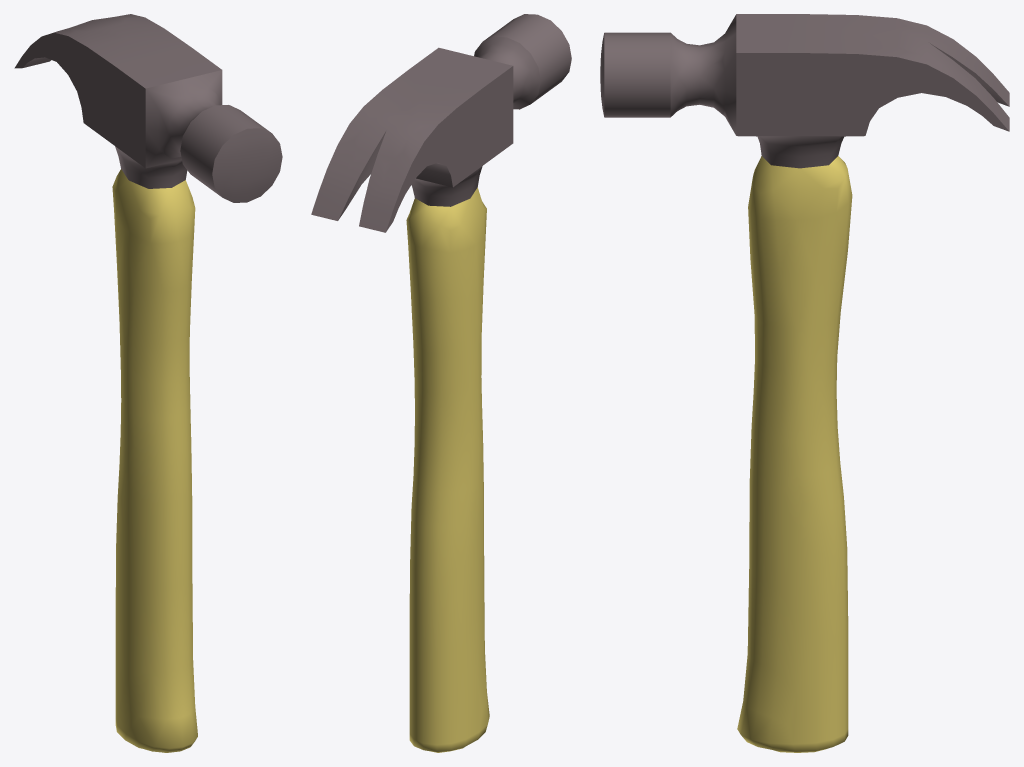
File: hammerlod2.obj
3 renders of one model, left to right at view 1: azimuth 30°, elevation 25°; view 2: azimuth 150°, elevation 25°; view 3: azimuth 270°, elevation 25°, orthographic. The views are drawn at different scales.
Visible parts, largest first — view 1: mesh01; view 2: mesh01; view 3: mesh01.
Part boxes in pixels (x1=…): mesh01: x1=14, y1=14, x2=282, y2=752; mesh01: x1=311, y1=14, x2=571, y2=752; mesh01: x1=600, y1=14, x2=1009, y2=752.
Size of the model in its own units: 50.29 by 427 by 223.
